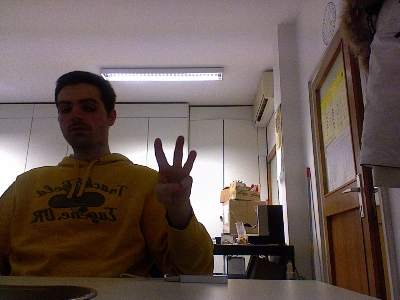三分: (153, 135, 197, 209)
